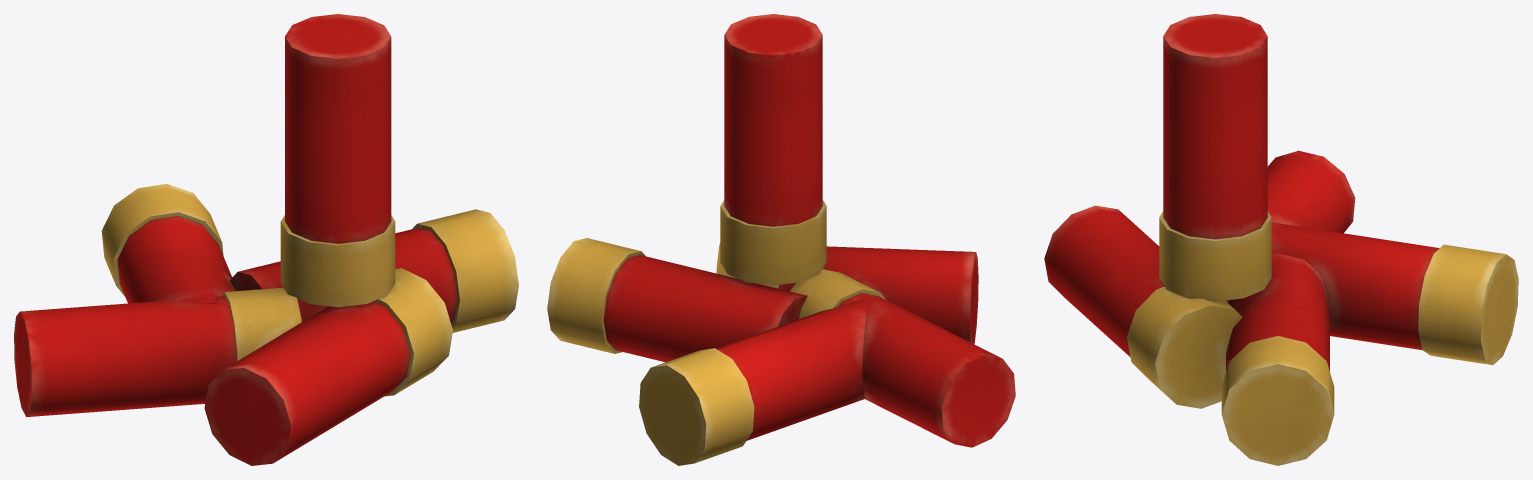
File: pk_shells.glb
3 renders of one model, left to right at view 1: azimuth 30°, elevation 25°; view 2: azimuth 150°, elevation 25°; view 3: azimuth 270°, elevation 25°, orthographic. The views are drawn at different scales.
Parts seen in each view (by area): view 1: pk_shells; view 2: pk_shells; view 3: pk_shells.
Part boxes in pixels (left/top/right/bottom): pk_shells: left=14, top=14, right=518, bottom=465; pk_shells: left=547, top=14, right=1015, bottom=465; pk_shells: left=1044, top=14, right=1518, bottom=465.
Bounding box in the file's own units: 0.3972 × 0.2828 × 0.3557.
Materials: 1 (1 with a texture image).
